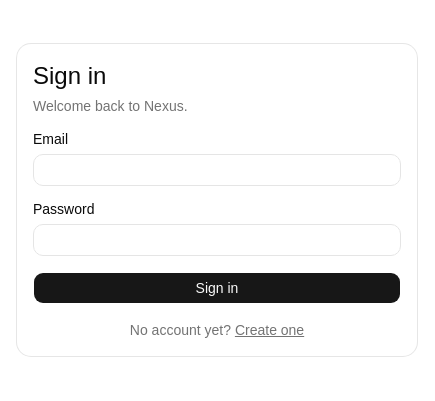
Test: LoginPage › tells the user how long to wait when rate limited
The width and height of the screenshot is (435, 401).
Type "ada@example.com" into the field labelled "Email" at [217, 170], box top-left (33, 154), bottom-right (401, 186)
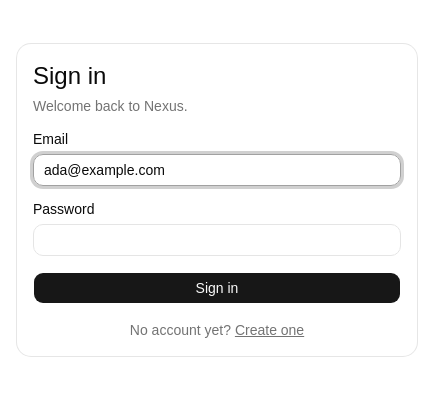
Type "whatever-password" into the password field labelled "Password" at [217, 240], box top-left (33, 224), bottom-right (401, 256)
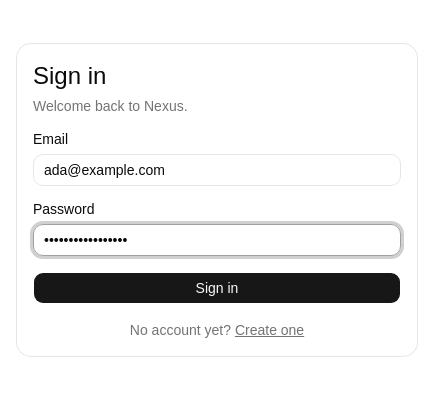
Click the button "Sign in" at [217, 288], box top-left (33, 272), bottom-right (401, 304)
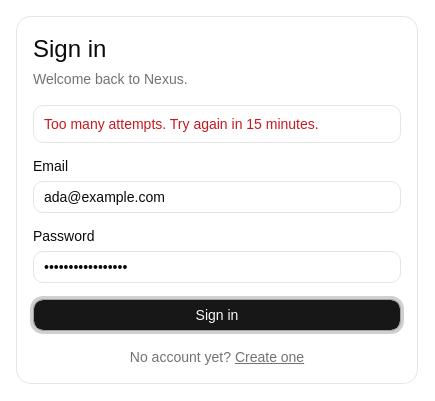
Check: the text "Too many attempts. Try again in 15 minutes." is shown, box top-left (44, 116), bottom-right (319, 132)
